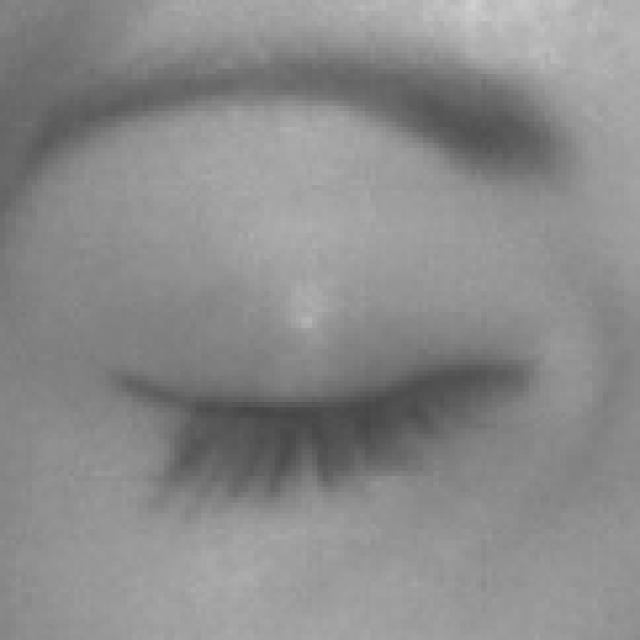Eyeclosed: (106, 205, 530, 612)
